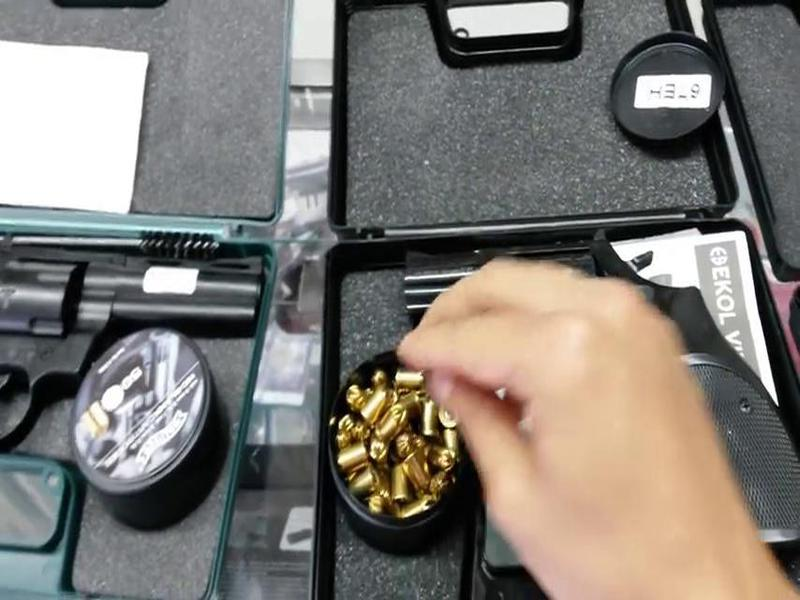Revolver: (1, 224, 279, 450)
